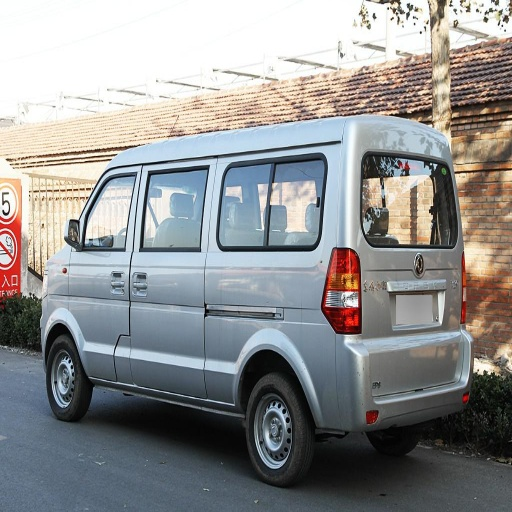back_left_door: (228, 166, 274, 245), (276, 186, 310, 241)
back_left_light: (321, 250, 358, 333)
tailgate: (383, 240, 457, 337)
trunk: (160, 249, 458, 427), (216, 270, 301, 296)
